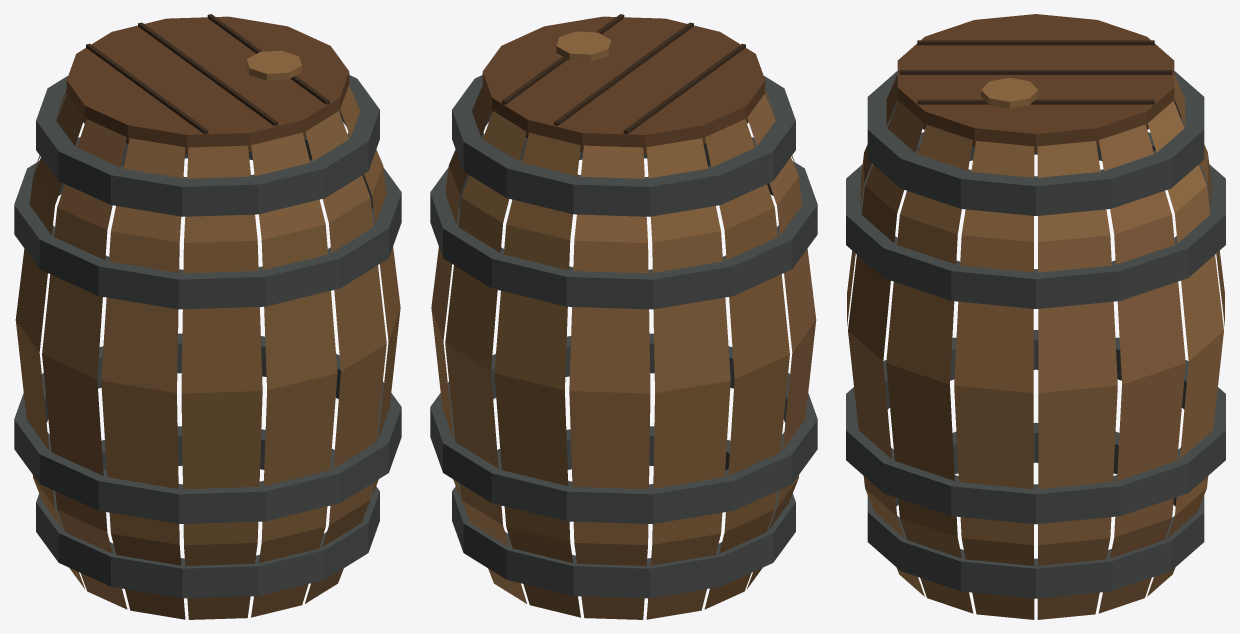
Rendered from barrel.glb.
3 renders of one model, left to right at view 1: azimuth 30°, elevation 25°; view 2: azimuth 150°, elevation 25°; view 3: azimuth 270°, elevation 25°, orthographic.
Visible parts, largest first — view 1: Timber, Metal; view 2: Timber, Metal; view 3: Timber, Metal.
Boxes of the visible parts, box(x1,y1,x2,y2) form: Timber: box(15, 14, 400, 619); Metal: box(14, 75, 401, 598); Timber: box(431, 14, 816, 619); Metal: box(430, 75, 817, 598); Timber: box(847, 14, 1224, 619); Metal: box(846, 71, 1225, 598).
Size of the model in its own units: 0.886 by 1.25 by 0.8638.
